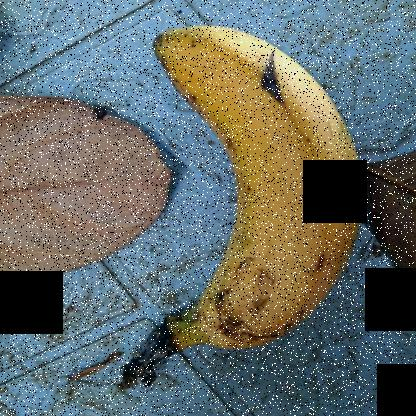ripe: (124, 1, 373, 365)
